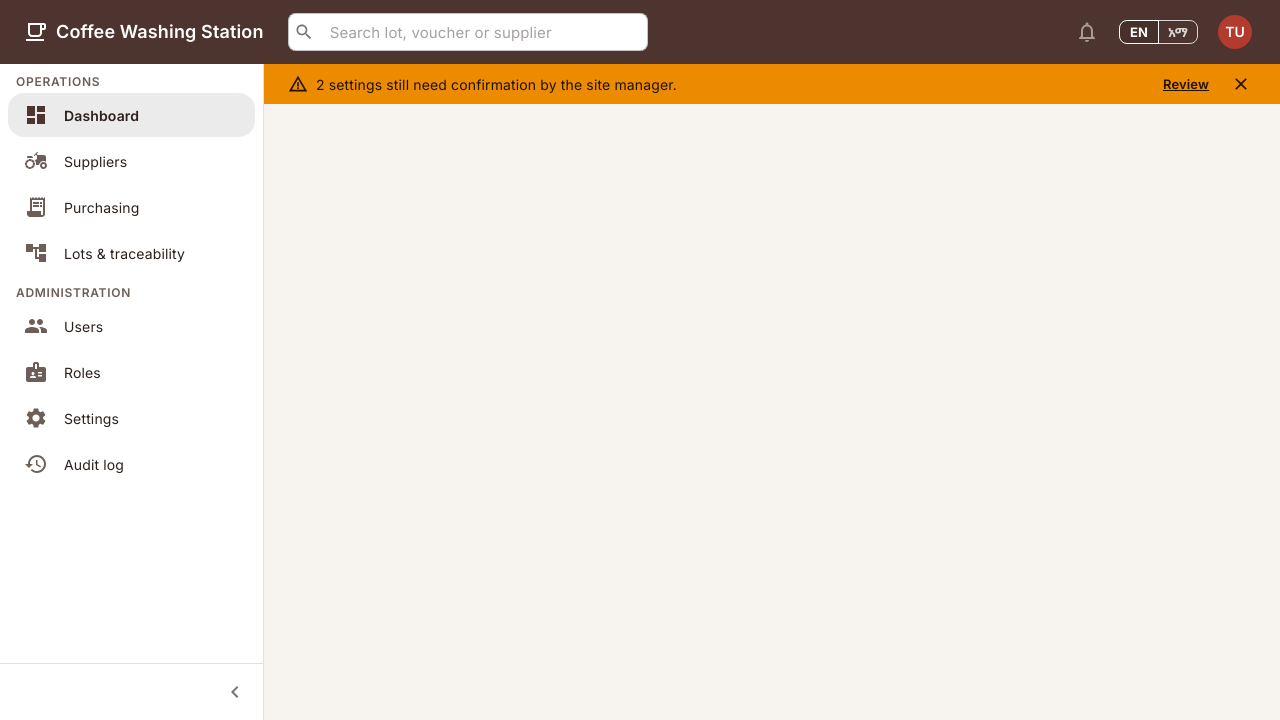
Test: settings bar › shows the count, links to review and can be dismissed for the session
Check: the text "2 settings still need confirmation by the site manager." is shown, box [316, 76, 677, 92]
Click the button named "Dismiss": (1241, 84) [1226, 69, 1256, 99]
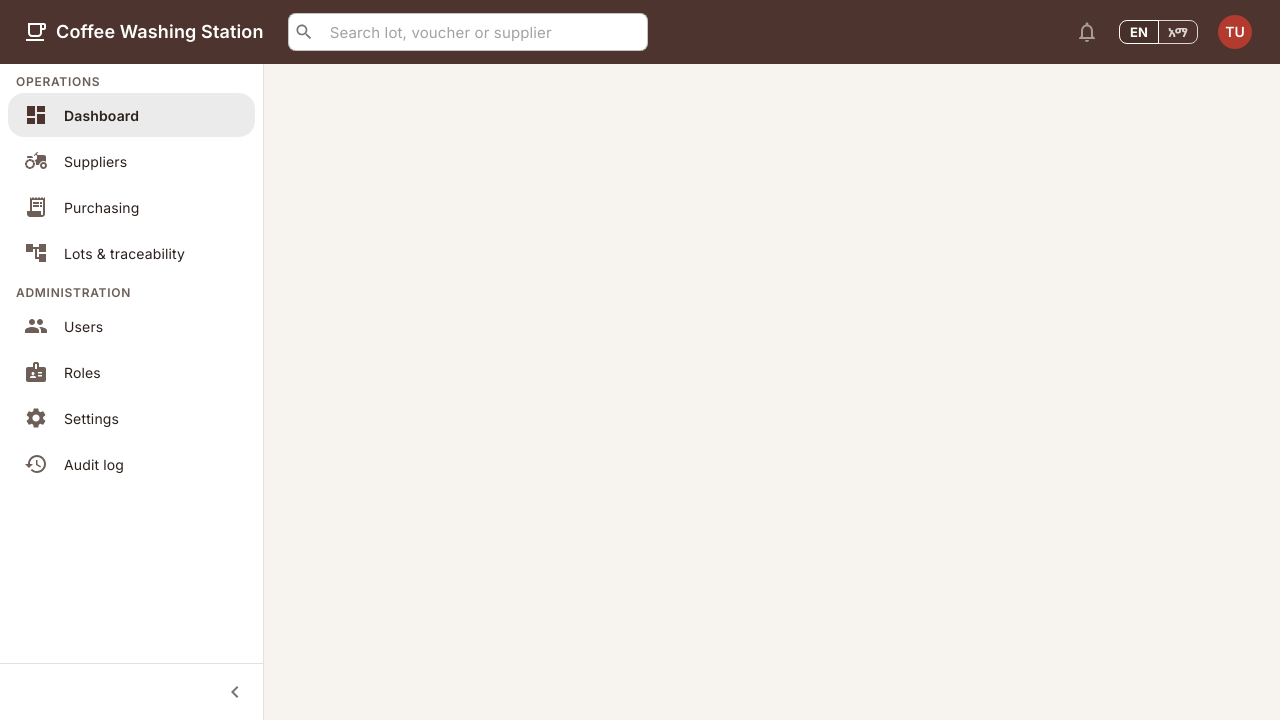
Check: the text "still need confirmation" is gone
